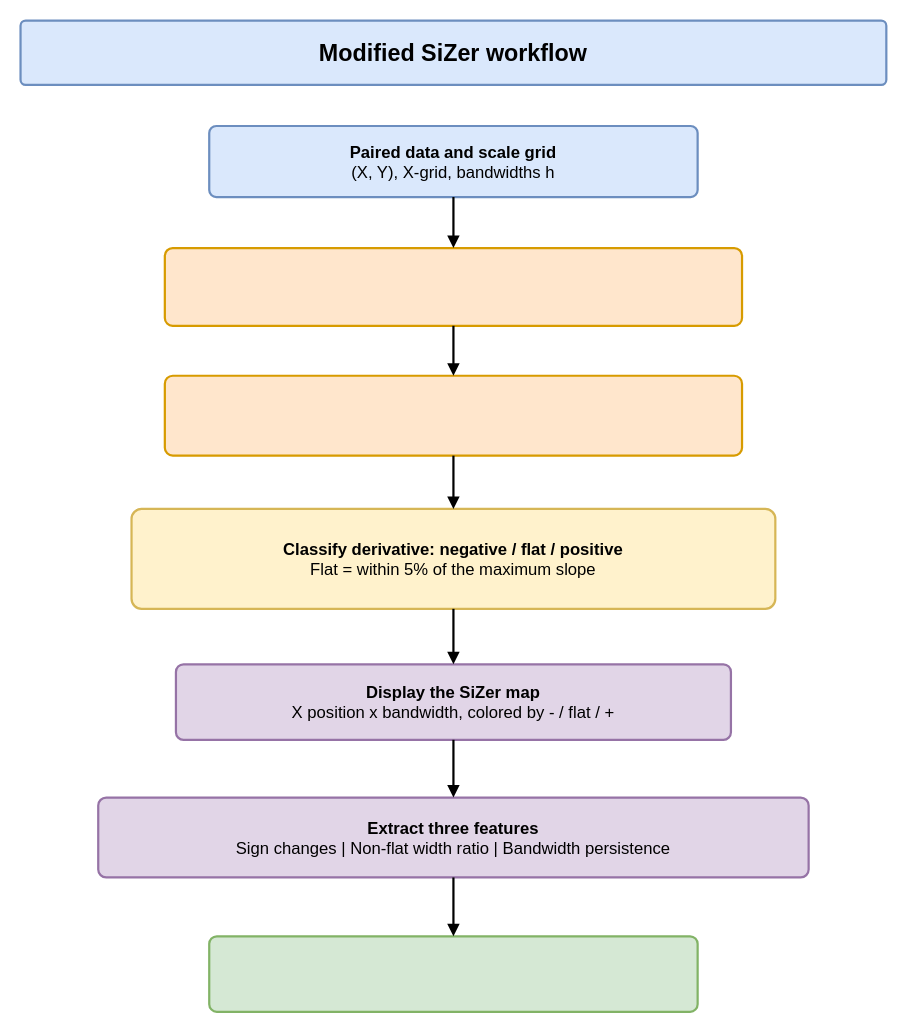
Image size: 906x1031. Some labels were removed from this diagram. The centre of each missing label's shape, as x and y in pixels:
"At each (x0, h), calculate Gaussian weights w = exp[-0.5 ((x-x0)/h)^2]" goes at point 453,286.
"Fit weighted local linear regression y = beta0 + beta1(x-x0); derivative = beta1" goes at point 453,415.
"Shape classification S-shaped | Cubic | Threshold" goes at point 453,973.
